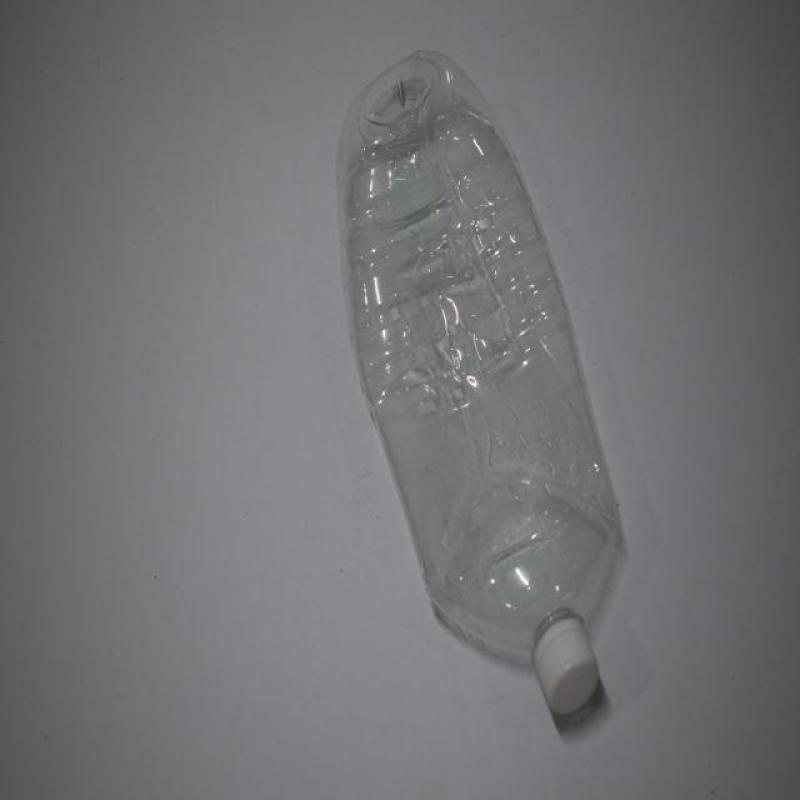botella: (335, 47, 631, 732)
